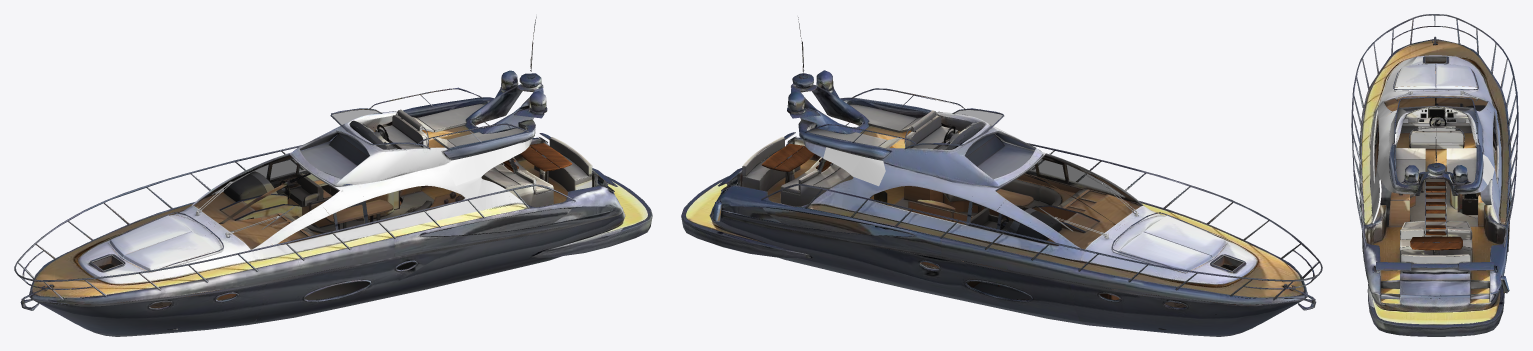
The model's file is sportyacht.glb.
3 renders of one model, left to right at view 1: azimuth 30°, elevation 25°; view 2: azimuth 150°, elevation 25°; view 3: azimuth 270°, elevation 25°, orthographic. The views are drawn at different scales.
Parts seen in each view (by area): view 1: PavimentoSopra001.003_PlasticaBarca.005_0_5, PavimentoSopra001.003_PlasticaBiancaRiflettente.001_0_20, PavimentoSopra001.003_VetroNero.001_0_23, PavimentoSopra001.003_PlasticaBarca.006_0_7, PavimentoSopra001.003_PavimentoLegno.001_0_27, PavimentoSopra001.003_leather.001_0_9, PavimentoSopra001.003_PlasticaBarca.002_0_14, PavimentoSopra001.003_LegnoChiaro.001_0_18, PavimentoSopra001.003_Material #2301.003_0_19, PavimentoSopra001.003_Cromato.016_0_6, PavimentoSopra001.003_logo_0_4, PavimentoSopra001.003_Cromato.001_0_30 (+1 smaller); view 2: PavimentoSopra001.003_PlasticaBarca.005_0_5, PavimentoSopra001.003_PlasticaBiancaRiflettente.001_0_20, PavimentoSopra001.003_VetroNero.001_0_23, PavimentoSopra001.003_PlasticaBarca.006_0_7, PavimentoSopra001.003_PavimentoLegno.001_0_27, PavimentoSopra001.003_leather.001_0_9, PavimentoSopra001.003_PlasticaBarca.002_0_14, PavimentoSopra001.003_LegnoChiaro.001_0_18, PavimentoSopra001.003_Cromato.016_0_6, PavimentoSopra001.003_logo_0_4, PavimentoSopra001.003_LegnoScuro.001_0_10, PavimentoSopra001.003_Cromato.001_0_30 (+1 smaller); view 3: PavimentoSopra001.003_PavimentoLegno.001_0_27, PavimentoSopra001.003_PlasticaBiancaRiflettente.001_0_20, PavimentoSopra001.003_PlasticaBarca.005_0_5, PavimentoSopra001.003_PlasticaBarca.006_0_7, PavimentoSopra001.003_leather.001_0_9, PavimentoSopra001.003_PlasticaBarca.002_0_14, PavimentoSopra001.003_LegnoChiaro.001_0_18, PavimentoSopra001.003_VetroNero.001_0_23, PavimentoSopra001.003_LegnoScuro.001_0_10, PavimentoSopra001.003_Cromato.016_0_6, PavimentoSopra001.003_Material #2301.003_0_19, PavimentoSopra001.003_logo_0_4 (+2 smaller).
Part boxes in pixels (box(x1,y1,x2,y2)): PavimentoSopra001.003_PlasticaBarca.005_0_5: box(29, 138, 625, 336); PavimentoSopra001.003_PlasticaBiancaRiflettente.001_0_20: box(79, 111, 532, 284); PavimentoSopra001.003_VetroNero.001_0_23: box(93, 110, 464, 307); PavimentoSopra001.003_PlasticaBarca.006_0_7: box(14, 83, 652, 309); PavimentoSopra001.003_PavimentoLegno.001_0_27: box(32, 121, 647, 298); PavimentoSopra001.003_leather.001_0_9: box(281, 104, 592, 272); PavimentoSopra001.003_PlasticaBarca.002_0_14: box(18, 16, 617, 310); PavimentoSopra001.003_LegnoChiaro.001_0_18: box(84, 174, 478, 307); PavimentoSopra001.003_Material #2301.003_0_19: box(163, 191, 480, 305); PavimentoSopra001.003_Cromato.016_0_6: box(329, 120, 397, 165); PavimentoSopra001.003_logo_0_4: box(449, 147, 511, 185); PavimentoSopra001.003_Cromato.001_0_30: box(223, 171, 290, 201); PavimentoSopra001.003_PlasticaBarca.005_0_5: box(710, 137, 1307, 336); PavimentoSopra001.003_PlasticaBiancaRiflettente.001_0_20: box(802, 111, 1256, 284); PavimentoSopra001.003_VetroNero.001_0_23: box(870, 110, 1242, 307); PavimentoSopra001.003_PlasticaBarca.006_0_7: box(681, 83, 1322, 314); PavimentoSopra001.003_PavimentoLegno.001_0_27: box(686, 122, 1304, 298); PavimentoSopra001.003_leather.001_0_9: box(742, 104, 1086, 229); PavimentoSopra001.003_PlasticaBarca.002_0_14: box(718, 17, 1318, 310); PavimentoSopra001.003_LegnoChiaro.001_0_18: box(862, 173, 1250, 305); PavimentoSopra001.003_Cromato.016_0_6: box(937, 121, 1004, 165); PavimentoSopra001.003_logo_0_4: box(823, 147, 885, 186); PavimentoSopra001.003_LegnoScuro.001_0_10: box(761, 127, 855, 172); PavimentoSopra001.003_Cromato.001_0_30: box(990, 208, 1061, 242); PavimentoSopra001.003_PavimentoLegno.001_0_27: box(1362, 40, 1508, 324); PavimentoSopra001.003_PlasticaBiancaRiflettente.001_0_20: box(1370, 55, 1501, 224); PavimentoSopra001.003_PlasticaBarca.005_0_5: box(1359, 39, 1511, 312); PavimentoSopra001.003_PlasticaBarca.006_0_7: box(1351, 14, 1518, 336); PavimentoSopra001.003_leather.001_0_9: box(1395, 126, 1495, 277); PavimentoSopra001.003_PlasticaBarca.002_0_14: box(1353, 15, 1518, 272); PavimentoSopra001.003_LegnoChiaro.001_0_18: box(1374, 62, 1502, 226); PavimentoSopra001.003_VetroNero.001_0_23: box(1374, 57, 1497, 178); PavimentoSopra001.003_LegnoScuro.001_0_10: box(1410, 182, 1462, 250); PavimentoSopra001.003_Cromato.016_0_6: box(1400, 106, 1472, 132); PavimentoSopra001.003_Material #2301.003_0_19: box(1378, 148, 1477, 226); PavimentoSopra001.003_logo_0_4: box(1377, 154, 1494, 184).
Bounding box in the file's own units: 3.64 × 1.27 × 1.
29 materials, 18 textured.
